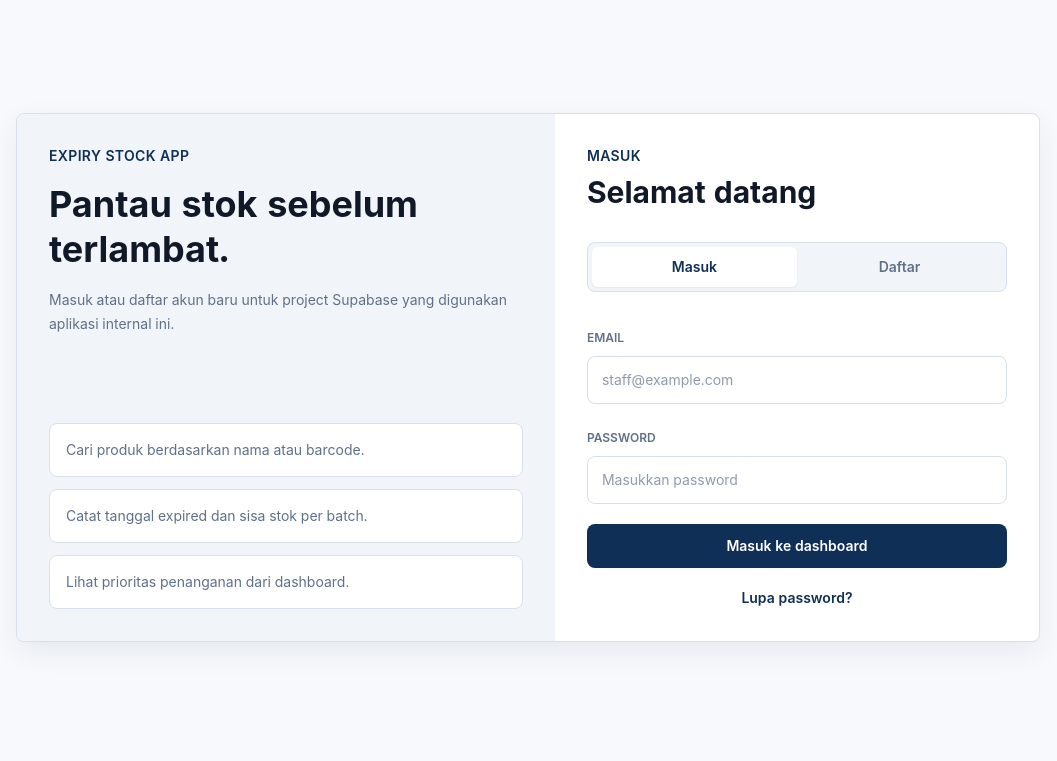
it: LoginPage › menolak daftar akun saat password terlalu pendek sebelum memanggil Supabase
Click the tab "Daftar" at (899,266), box [797,246,1002,286]
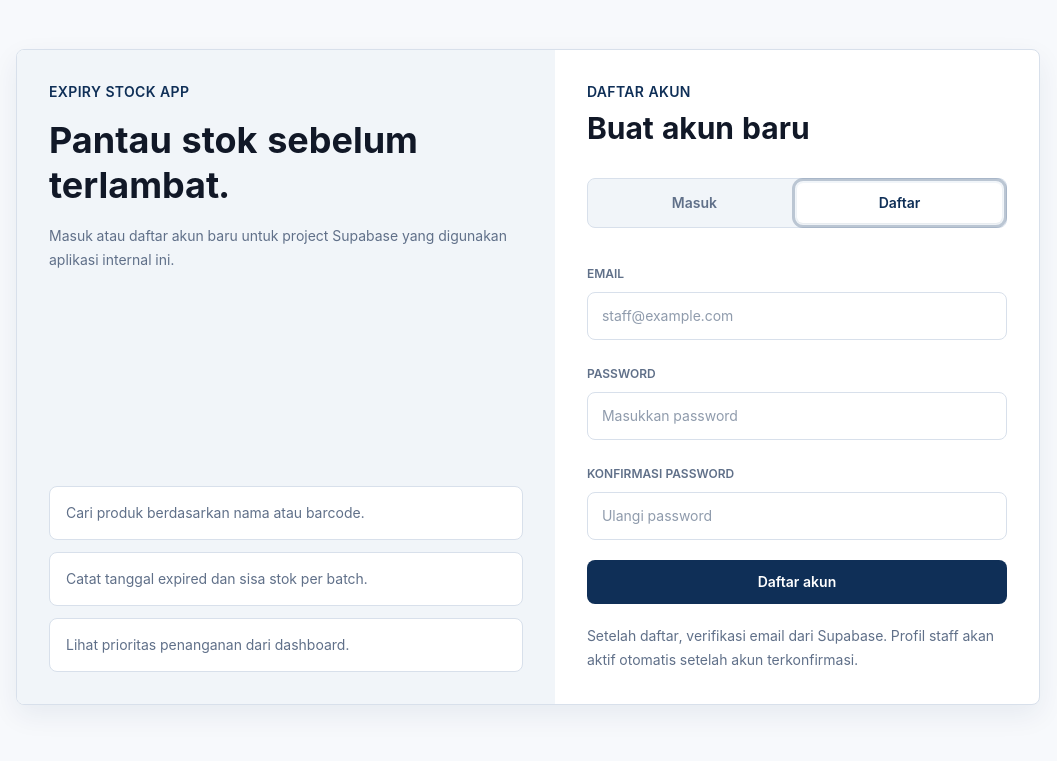
Type "baru@example.com" into the field labelled "Email" at (797,316), box [587,292,1007,340]
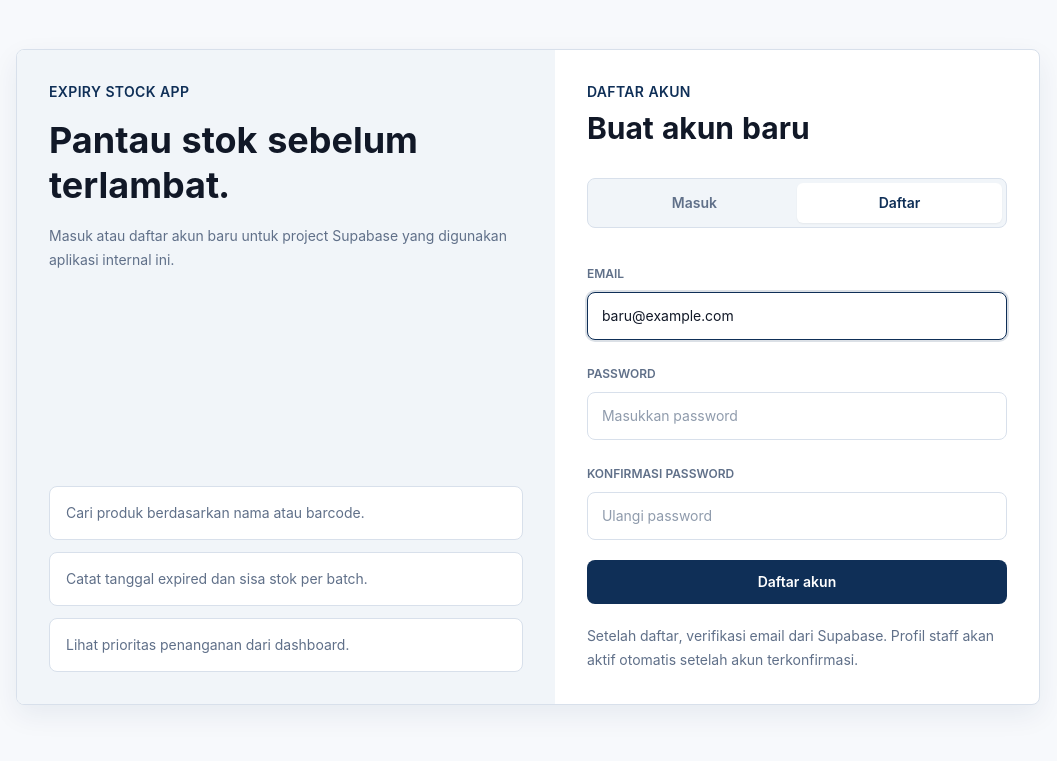
Type "abc" into the password field labelled "Password" at (797,416), box [587,392,1007,440]
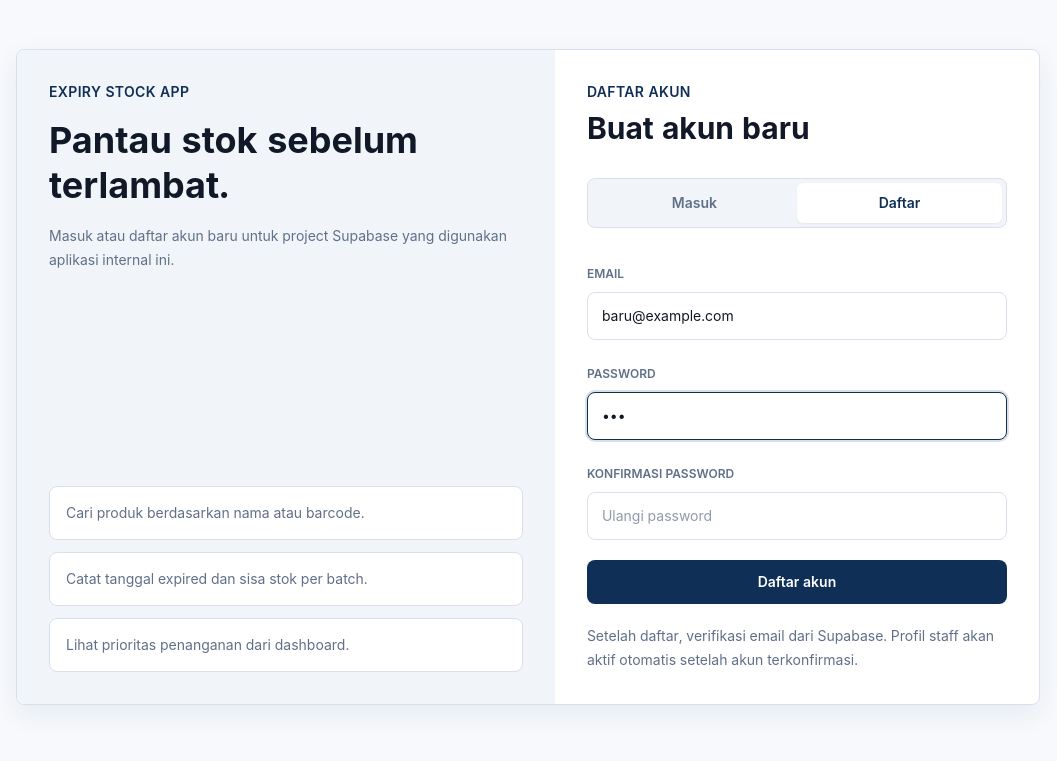
Type "abc" into the password field labelled "Konfirmasi password" at (797,516), box [587,492,1007,540]
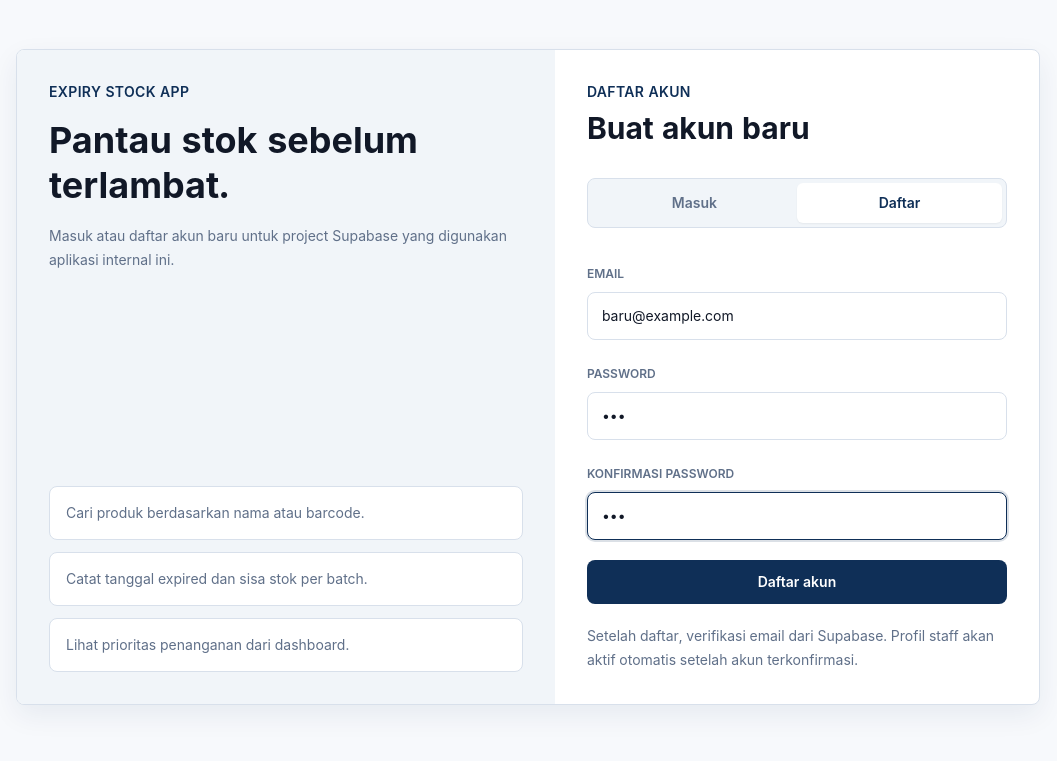
Click the button "Daftar akun" at (797,582), box [587,560,1007,604]
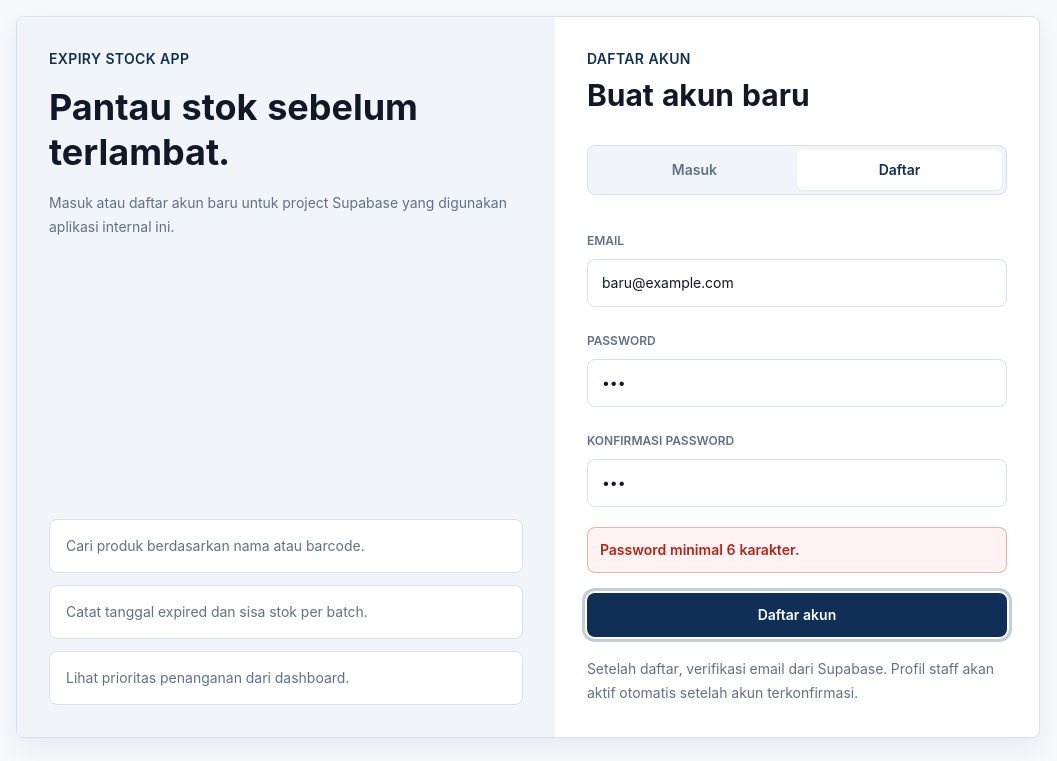
Check: the text "Password minimal 6 karakter." is shown, box [587,527,1007,573]
